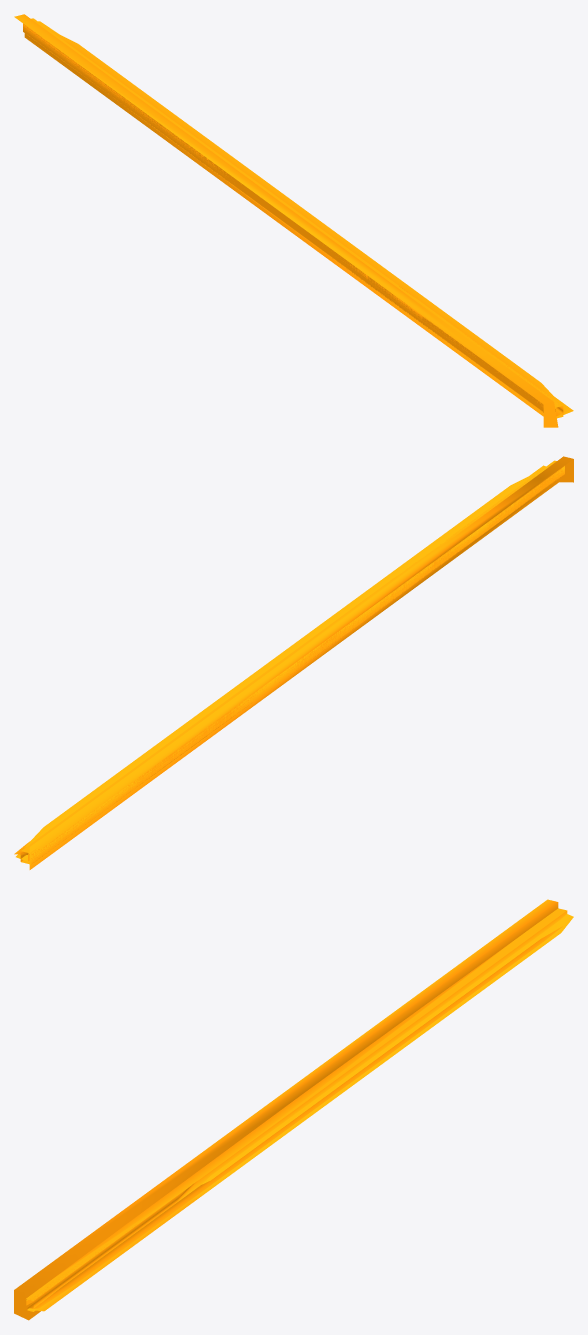
Rendered from top_gate.dae.
The picture shows the model from 3 angles, top to bottom: view 1: azimuth 30°, elevation 25°; view 2: azimuth 150°, elevation 25°; view 3: azimuth 330°, elevation 25°; orthographic projection.
Parts seen in each view (by area): view 1: Plane.013; view 2: Plane.013; view 3: Plane.013.
Part boxes in pixels (box(x1,y1,x2,y2)): Plane.013: box(14, 14, 573, 427); Plane.013: box(14, 456, 573, 869); Plane.013: box(14, 899, 573, 1320).
Size of the model in its own units: 0.0297 by 0.8994 by 0.0262.
